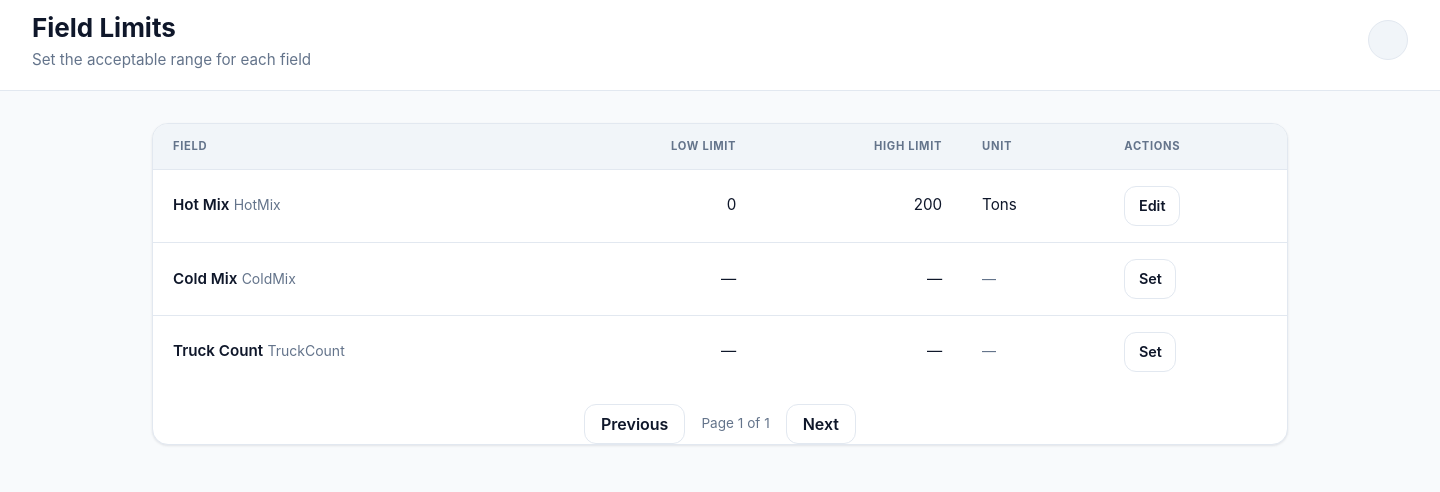
FieldLimitsScreen › blocks a limit whose high bound is below its low bound (I-D25)
Click the button "Set" in the row of "Cold Mix". click: (1150,279)
box: [1124, 259, 1176, 299]
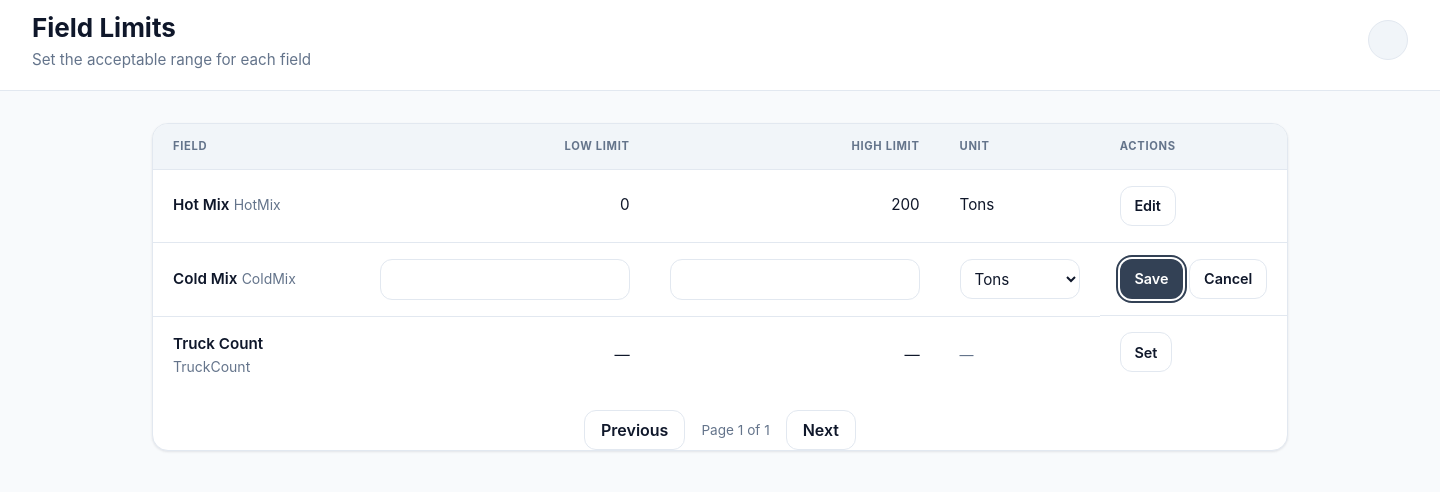
Type "5" into the number field named "Low limit". click: (505,280)
box: [380, 259, 630, 300]
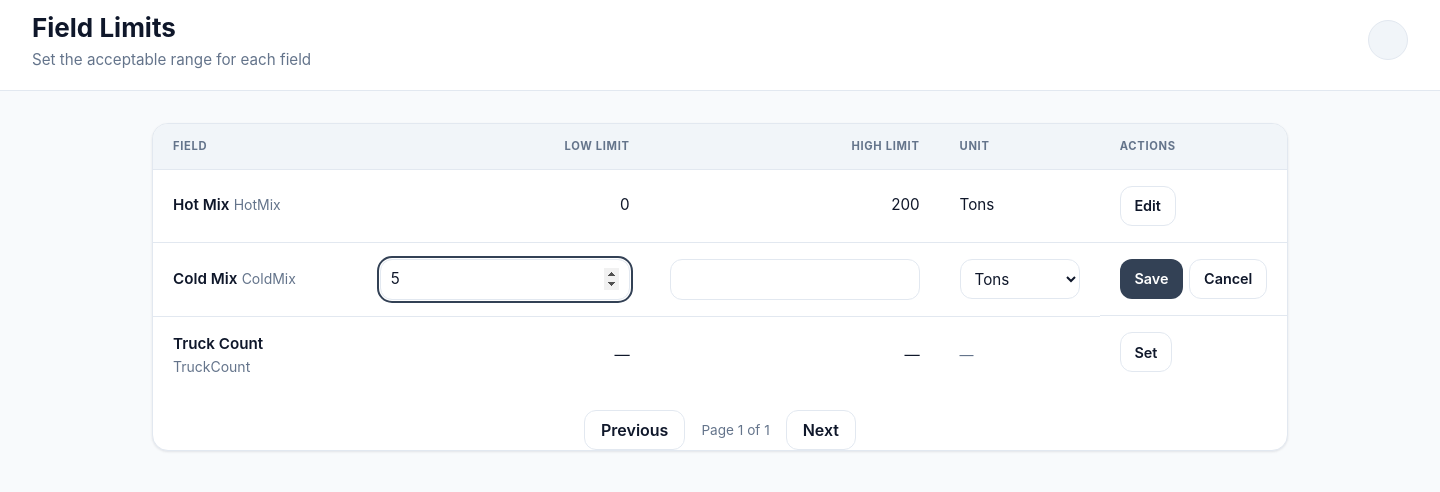
Type "1" into the number field named "High limit". click: (795,280)
box: [670, 259, 920, 300]
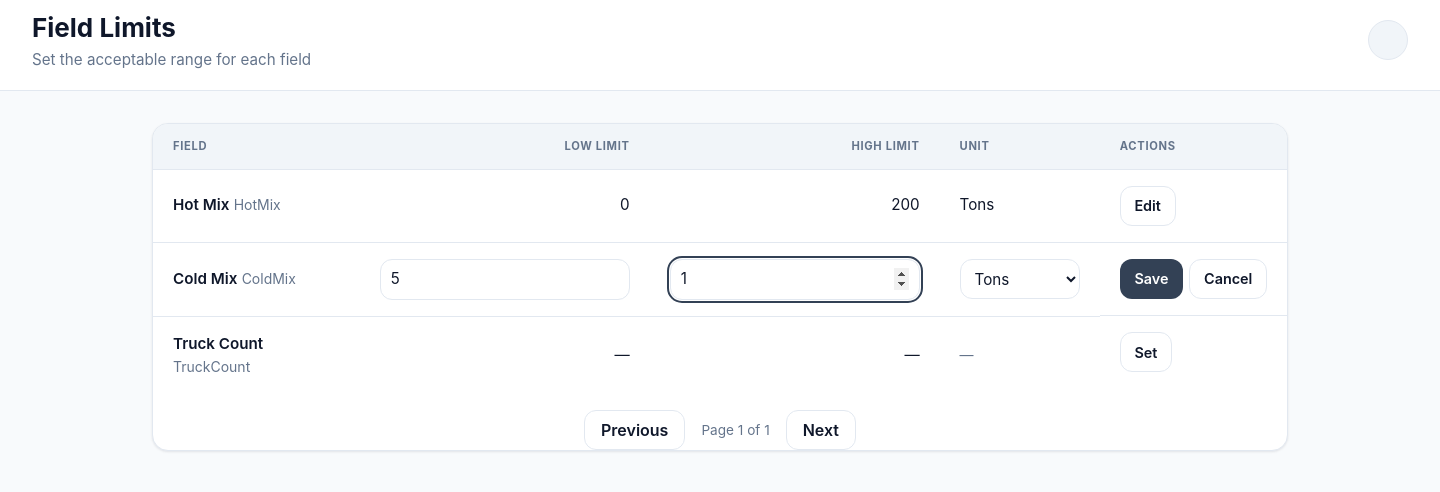
Click the button "Save". click: (1151,279)
box: [1120, 259, 1183, 299]
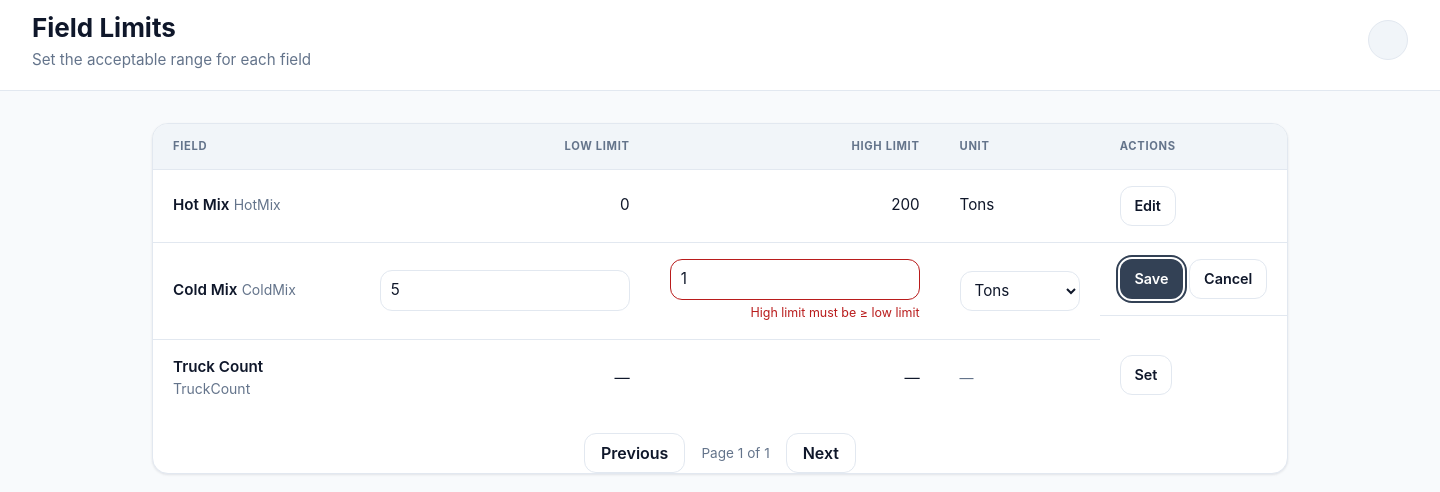
Expected: the text "High limit must be ≥ low limit" is shown, [750, 305, 920, 320]
